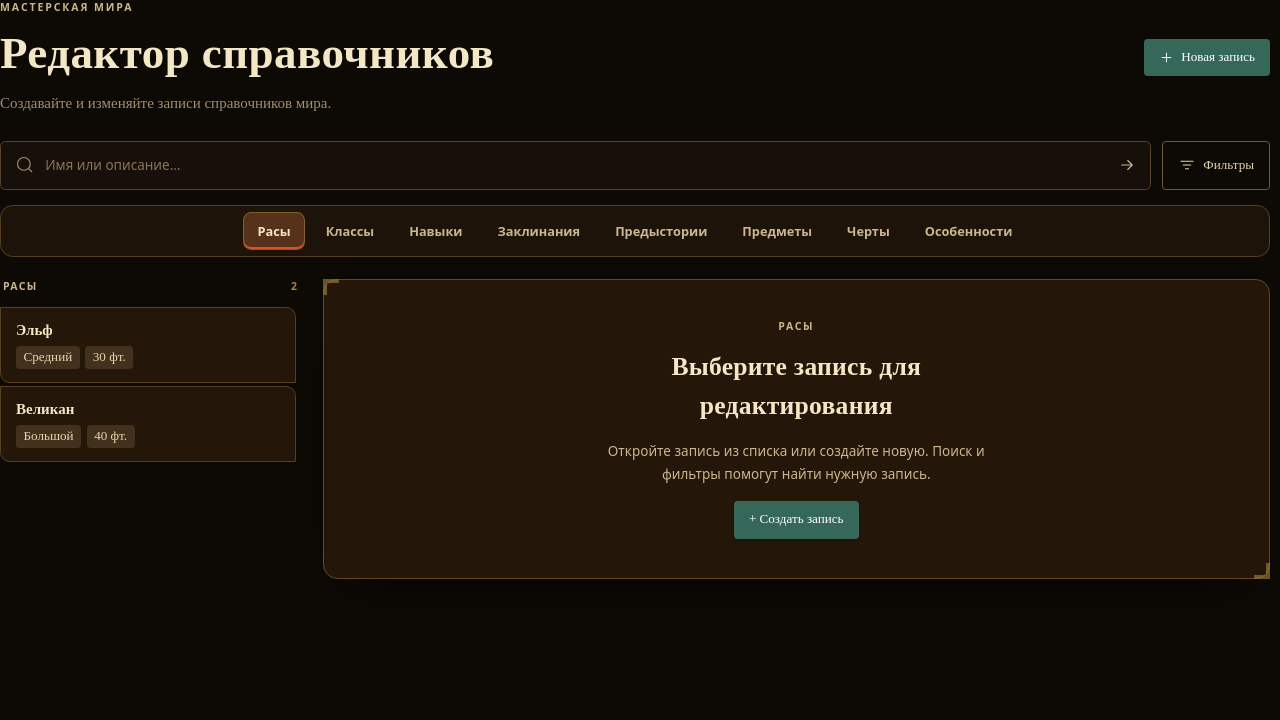
Scenario: GmEditorPage › keeps keyboard focus in the drawer and returns it to the filter button on Escape
Expected: the button "Эльф Средний 30 фт." is shown, [0,307,296,383]
Click the button with aria-label "Открыть фильтры". click: x=1216, y=165
box: [1162,141,1270,190]
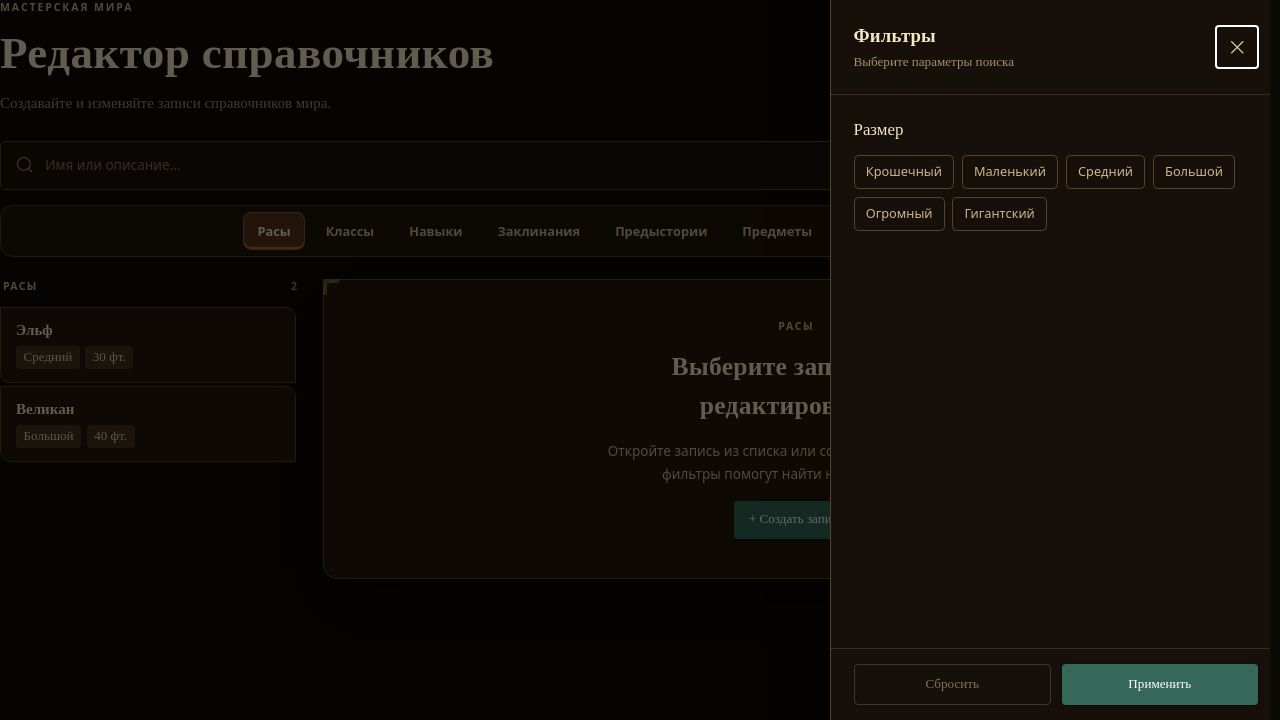
Result: the dialog "Фильтры" is shown at [830,0,1279,719]
Press Shift+Tab
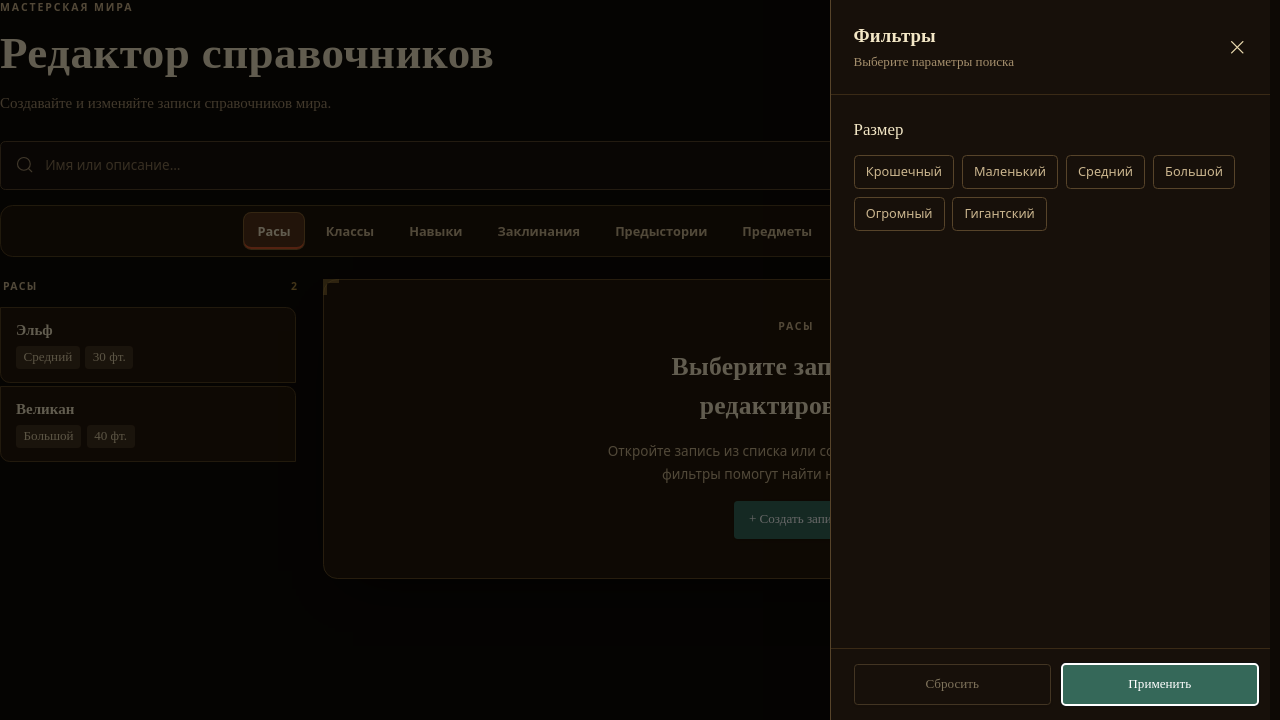
Press Tab
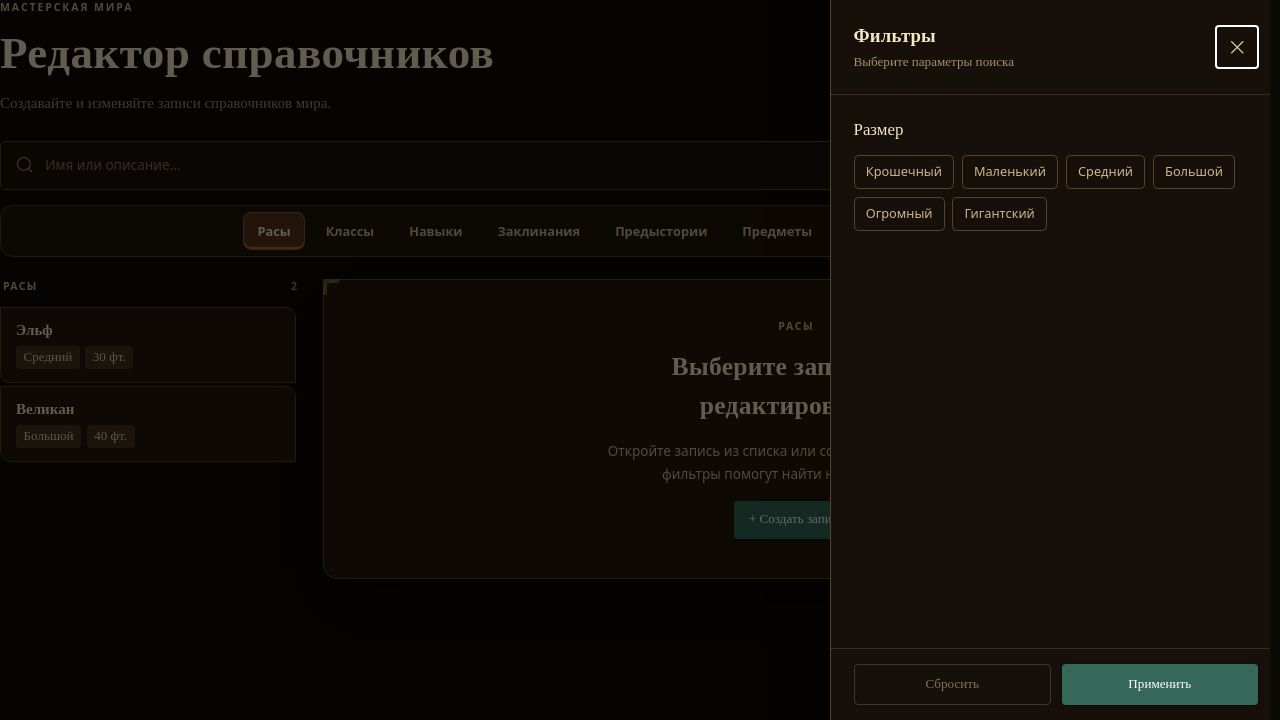
Press Escape
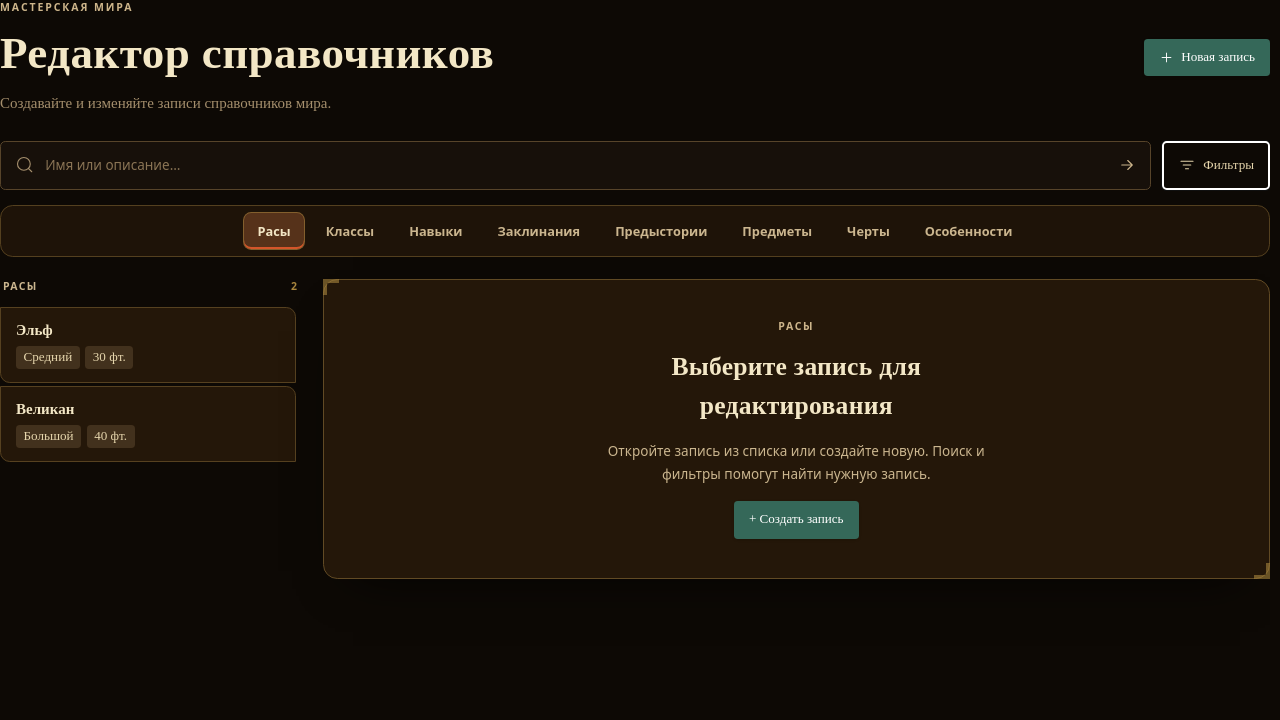
Result: the dialog is gone
